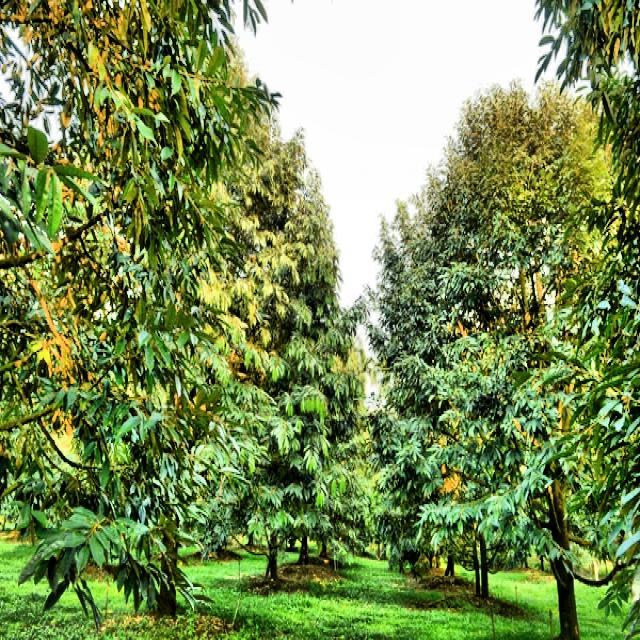arvore: (534, 341, 596, 640), (152, 398, 193, 640), (458, 483, 497, 605), (258, 478, 286, 586), (439, 528, 459, 587), (296, 501, 313, 569)
